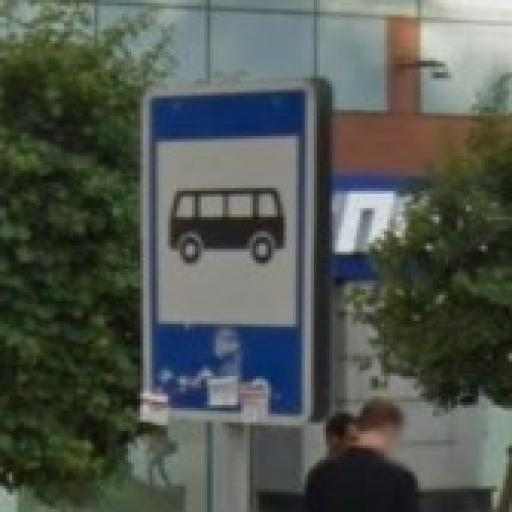traffic_sign: (141, 76, 318, 426)
